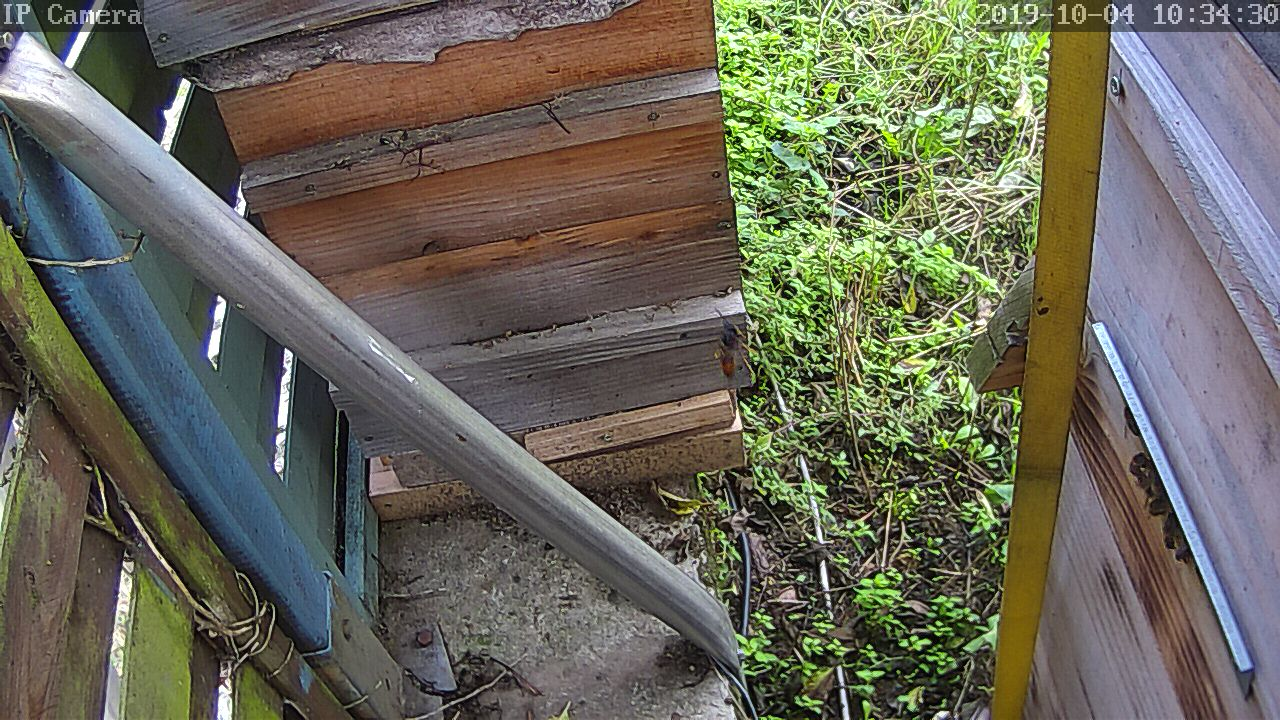bee: (1153, 522, 1195, 564), (1123, 455, 1163, 499), (1141, 492, 1182, 533), (1118, 405, 1146, 438)
hornet: (706, 310, 756, 386)
